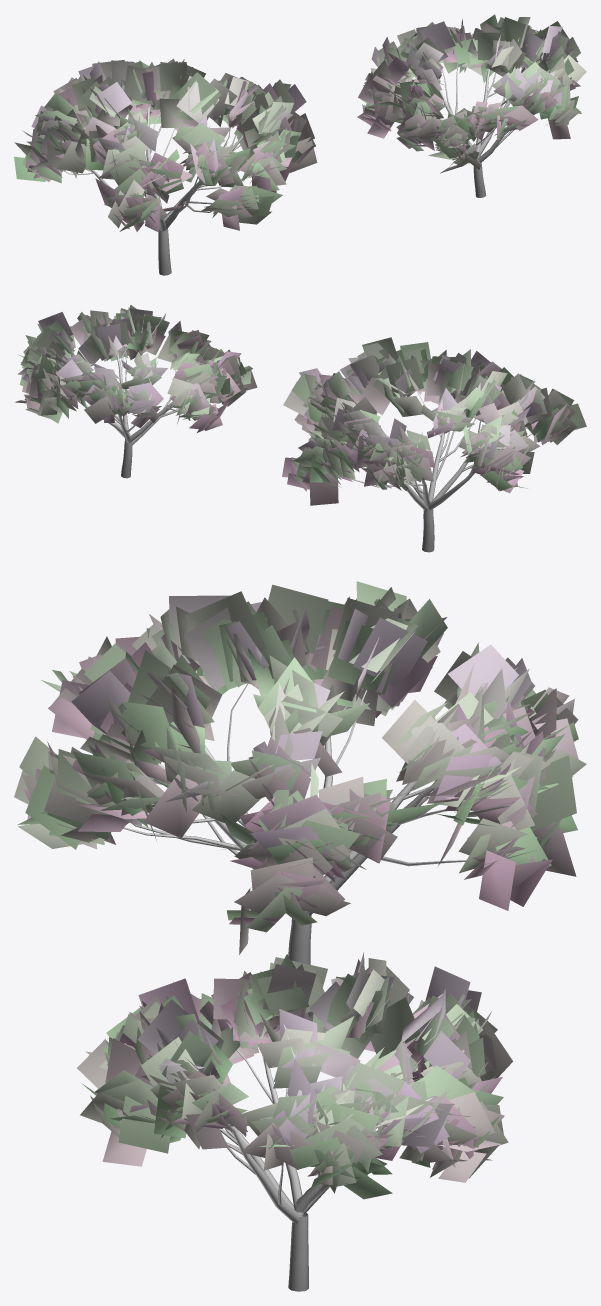
The model's file is Gulmohar.fbx.
3 views of the same model, one above another, from view 1: azimuth 30°, elevation 25°; view 2: azimuth 150°, elevation 25°; view 3: azimuth 270°, elevation 25° (orthographic). The views are drawn at different scales.
Visible parts, largest first — view 1: Gulmohar_A_LOD0, Gulmohar_B_LOD0; view 2: Gulmohar_A_LOD0, Gulmohar_B_LOD0; view 3: Gulmohar_A_LOD0, Gulmohar_B_LOD0.
Boxes of the visible parts, bbox=[...] form: Gulmohar_A_LOD0: bbox=[14, 58, 317, 275]; Gulmohar_B_LOD0: bbox=[357, 14, 586, 197]; Gulmohar_A_LOD0: bbox=[282, 337, 586, 552]; Gulmohar_B_LOD0: bbox=[15, 305, 257, 478]; Gulmohar_A_LOD0: bbox=[14, 581, 586, 964]; Gulmohar_B_LOD0: bbox=[77, 952, 512, 1291].
Size of what is drawn, in the model's own units: 32.14 by 10.99 by 15.48.
